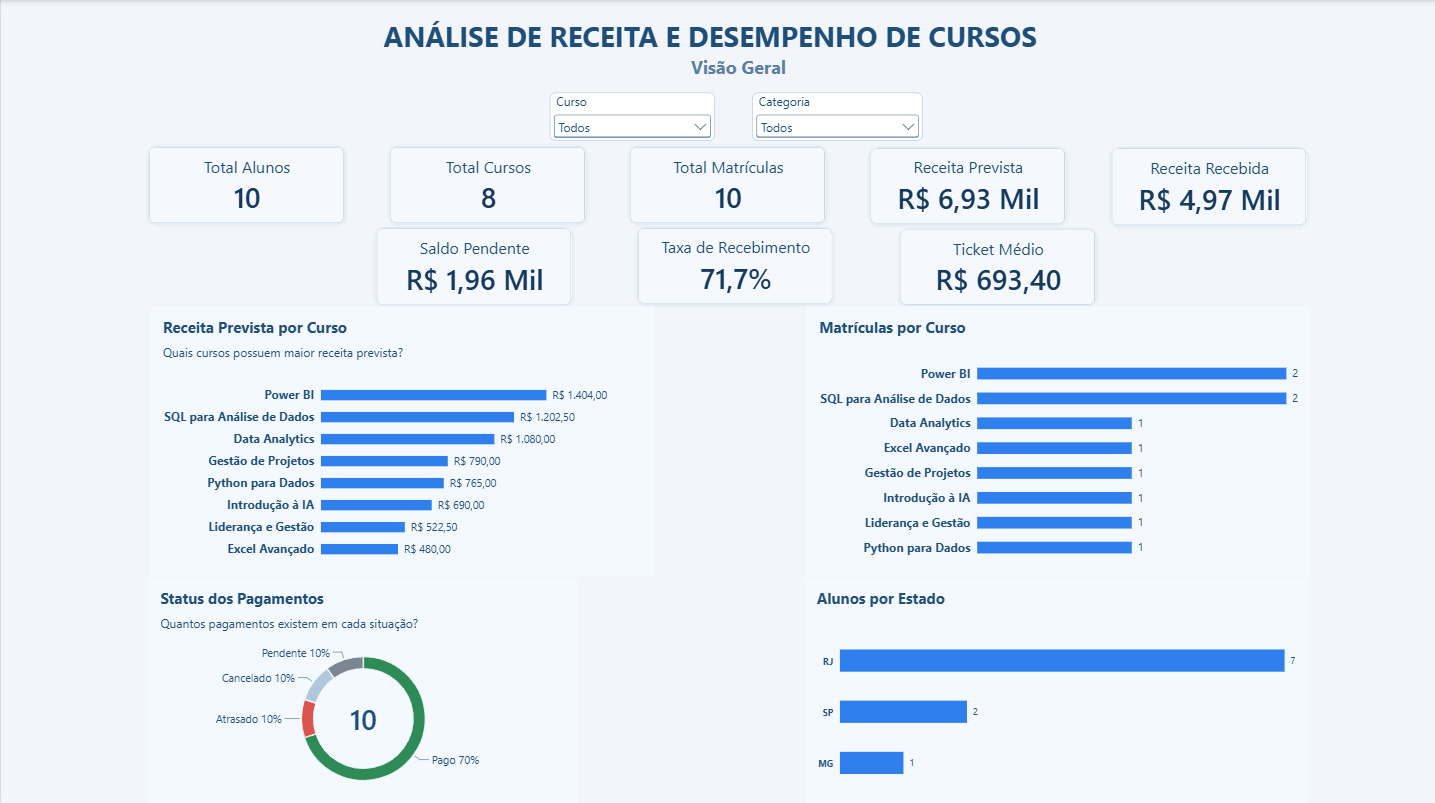

The dashboard page shown, as its layout file describes it:
{"tool":"powerbi","page":{"name":"Visão Geral","canvas":[1920,1080],"ordinal":0},"visuals":[{"type":"cardVisual","fields":{"Data":["vw_matriculas_detalhadas.Total Alunos"]},"box":[197.4,195.8,262,104],"z":0},{"type":"cardVisual","fields":{"Data":["vw_matriculas_detalhadas.Total Cursos"]},"box":[518.6,195.8,262,104],"z":1000},{"type":"cardVisual","fields":{"Data":["vw_matriculas_detalhadas.Total Matrículas"]},"box":[839.7,195.8,262,104],"z":2000},{"type":"cardVisual","fields":{"Data":["vw_financeiro.Receita Prevista"]},"box":[1160.8,197.2,262.7,103.1],"z":3000},{"type":"cardVisual","fields":{"Data":["vw_financeiro.Receita Recebida"]},"box":[1482.6,197.2,262.7,105.1],"z":4000},{"type":"cardVisual","fields":{"Data":["vw_financeiro.Saldo Pendente"]},"box":[501.5,303.4,262.7,105.1],"z":5000},{"type":"cardVisual","fields":{"Data":["vw_financeiro.Taxa de Recebimento"]},"box":[850.7,303.4,262.7,103.1],"z":6000},{"type":"cardVisual","fields":{"Data":["vw_financeiro.Ticket Médio"]},"box":[1199.8,305.8,262.7,103.1],"z":7000},{"type":"textbox","box":[510.3,1.8,897.6,83.2],"z":8000},{"type":"textbox","box":[921.1,74.2,200.9,36.2],"z":9000},{"type":"clusteredBarChart","title":"Receita Prevista por Curso","fields":{"Category":["vw_resumo_cursos.nome_curso"],"Y":["Sum(vw_resumo_cursos.receita_prevista)"]},"box":[200.3,408.5,672,360],"z":10000},{"type":"clusteredBarChart","title":"Matrículas por Curso","fields":{"Category":["vw_resumo_cursos.nome_curso"],"Y":["Sum(vw_resumo_cursos.total_matriculas)"]},"box":[1076.3,408.5,672,360],"z":11000},{"type":"donutChart","title":"Status dos Pagamentos","fields":{"Category":["vw_financeiro.status_pagamento"],"Y":["CountNonNull(vw_financeiro.id_pagamento)"]},"box":[197.4,770.7,574,310],"z":12000},{"type":"clusteredBarChart","title":"Alunos por Estado","fields":{"Category":["vw_matriculas_detalhadas.estado"],"Y":["Count(vw_matriculas_detalhadas.id_aluno)"]},"box":[1073.4,770.7,672,310],"z":13000},{"type":"slicer","fields":{"Values":["vw_resumo_cursos.nome_curso"]},"box":[732.9,123.2,220.8,65.1],"z":14000},{"type":"slicer","fields":{"Values":["vw_resumo_cursos.categoria"]},"box":[1004.4,123.2,228,65.1],"z":15000}]}

Visuals, with their boxes in screenshot pixels (x1, y1, x2, y2), scaled from the page's 1920x1080 canvas onto the 1435x803 screenshot:
cardVisual - vw_matriculas_detalhadas.Total Alunos: 148:146:343:223
cardVisual - vw_matriculas_detalhadas.Total Cursos: 388:146:583:223
cardVisual - vw_matriculas_detalhadas.Total Matrículas: 628:146:823:223
cardVisual - vw_financeiro.Receita Prevista: 868:147:1064:223
cardVisual - vw_financeiro.Receita Recebida: 1108:147:1304:225
cardVisual - vw_financeiro.Saldo Pendente: 375:226:571:304
cardVisual - vw_financeiro.Taxa de Recebimento: 636:226:832:302
cardVisual - vw_financeiro.Ticket Médio: 897:227:1093:304
textbox: 381:1:1052:63
textbox: 688:55:839:82
"Receita Prevista por Curso" clusteredBarChart: 150:304:652:571
"Matrículas por Curso" clusteredBarChart: 804:304:1307:571
"Status dos Pagamentos" donutChart: 148:573:577:802
"Alunos por Estado" clusteredBarChart: 802:573:1305:802
slicer - vw_resumo_cursos.nome_curso: 548:92:713:140
slicer - vw_resumo_cursos.categoria: 751:92:921:140
